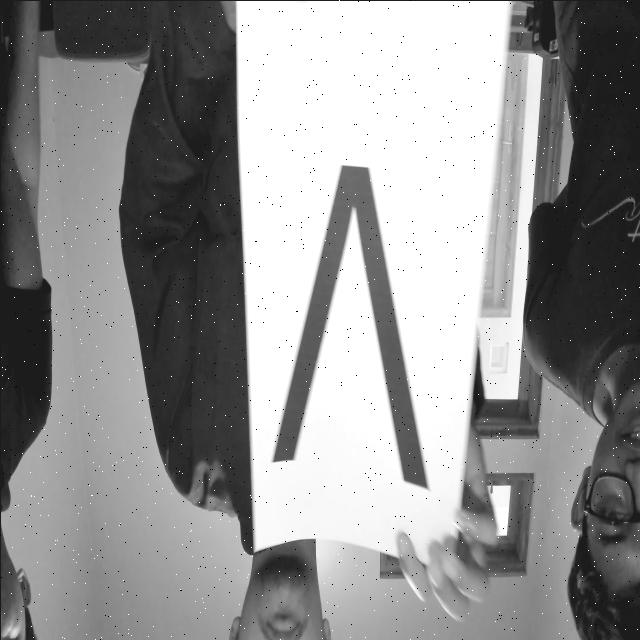v: (261, 141, 441, 517)
